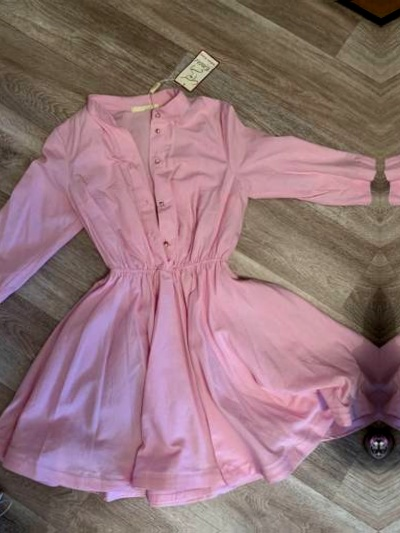Dress: (0, 73, 381, 500), (379, 75, 400, 502)
